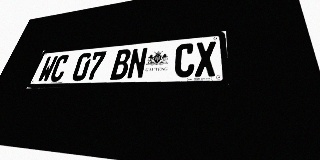0: (71, 52, 93, 81)
7: (85, 51, 107, 81)
B: (110, 49, 132, 80)
C: (174, 43, 195, 78), (48, 54, 70, 82)
N: (126, 47, 148, 79)
W: (36, 56, 58, 82)
X: (195, 41, 217, 77)
